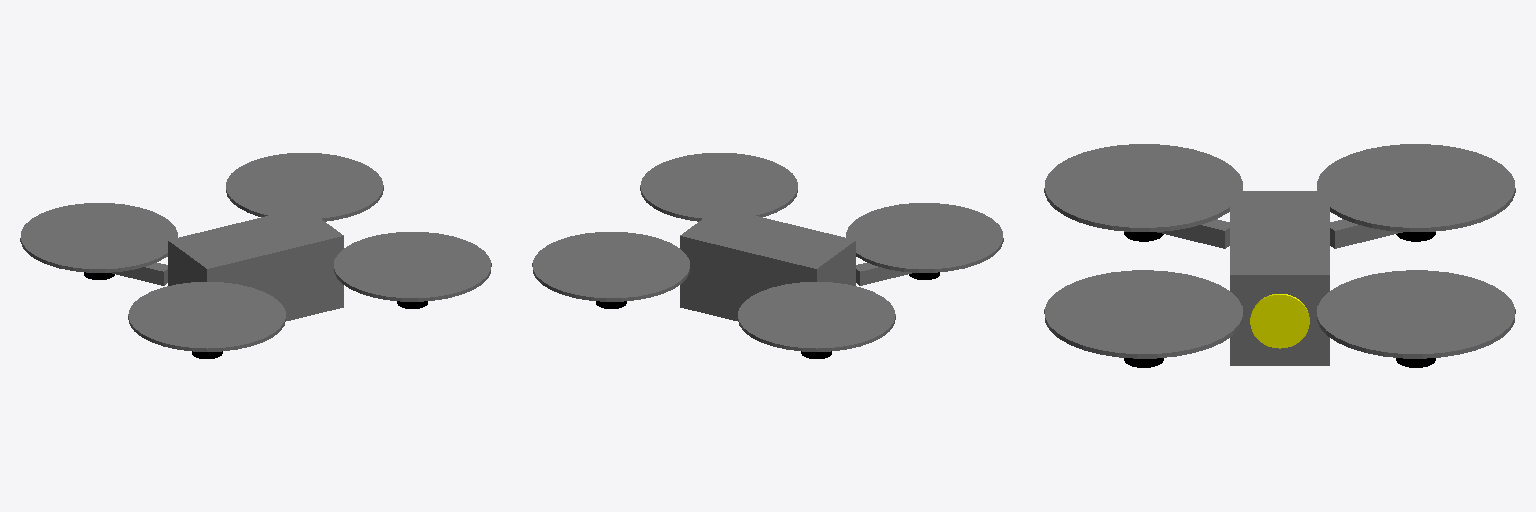
The robot description file, URDF, robot "drone":
<?xml version="1.0"?>
<robot name="drone">
  <!-- MAIN BODY: Box 0.20 x 0.10 x 0.10 m -->
  <link name="main_body">
    <inertial>
      <origin xyz="0 0 0" rpy="0 0 0"/>
      <mass value="1.5"/>
      <!-- Perhitungan kasar inersia untuk box (nilai perkiraan) -->
      <inertia ixx="0.0125" ixy="0" ixz="0" iyy="0.0075" iyz="0" izz="0.0150"/>
    </inertial>
    <visual>
      <origin xyz="0 0 0" rpy="0 0 0"/>
      <geometry>
        <box size="0.20 0.10 0.10"/>
      </geometry>
      <material name="grey">
        <color rgba="0.5 0.5 0.5 1"/>
      </material>
    </visual>
    <collision>
      <origin xyz="0 0 0" rpy="0 0 0"/>
      <geometry>
        <box size="0.20 0.10 0.10"/>
      </geometry>
    </collision>
  </link>

  <!-- HEADLAMP: Objek headlamp sebagai lampu sorot -->
  <link name="headlamp">
    <inertial>
      <!-- Nilai inersia kecil karena headlamp biasanya ringan -->
      <origin xyz="0 0 0" rpy="0 0 0"/>
      <mass value="0.01"/>
      <inertia ixx="0.00001" ixy="0" ixz="0" iyy="0.00001" iyz="0" izz="0.00001"/>
    </inertial>
    <visual>
      <!-- Headlamp dibuat berupa cylinder tipis untuk mensimulasikan lampu sorot -->
      <origin xyz="0 0 0" rpy="0 0 0"/>
      <geometry>
        <cylinder radius="0.03" length="0.005"/>
      </geometry>
      <material name="headlamp_yellow">
        <color rgba="1 1 0 1"/>
      </material>
    </visual>
    <collision>
      <!-- Untuk keperluan deteksi tabrakan, gunakan geometri yang sama -->
      <origin xyz="0 0 0" rpy="0 0 0"/>
      <geometry>
        <cylinder radius="0.03" length="0.005"/>
      </geometry>
    </collision>
  </link>

  <!-- Joint untuk memasang headlamp ke main_body -->
  <joint name="headlamp_joint" type="fixed">
    <!-- Pasangkan headlamp ke main body di posisi yang diinginkan (misal, di depan drone) -->
    <parent link="main_body"/>
    <child link="headlamp"/>
    <!-- Atur origin sehingga headlamp berada 1 cm di atas ujung depan main_body; sesuaikan nilai xyz sesuai layout drone Anda -->
    <origin xyz="0.1 0 0.0" rpy="0 1.578 0"/>
  </joint>

  <!-- ================================================= -->
  <!-- ARMS: Dipasang di empat sudut main body -->
  <!-- Front Right Arm: sambungan di ( +0.10, +0.05, 0 ), rotasi +60° (1.0472 rad) -->
  <link name="arm_fr">
    <inertial>
      <!-- Arm berupa box 0.10 x 0.02 x 0.02, pusat massa di (0.05,0,0) -->
      <origin xyz="0.05 0 0" rpy="0 0 0"/>
      <mass value="0.1"/>
      <inertia ixx="0.00007" ixy="0" ixz="0" iyy="0.00009" iyz="0" izz="0.00009"/>
    </inertial>
    <visual>
      <origin xyz="0.05 0 0" rpy="0 0 0"/>
      <geometry>
        <box size="0.10 0.02 0.02"/>
      </geometry>
      <material name="grey">
        <color rgba="0.5 0.5 0.5 1"/>
      </material>
    </visual>
    <collision>
      <origin xyz="0.05 0 0" rpy="0 0 0"/>
      <geometry>
        <box size="0.10 0.02 0.02"/>
      </geometry>
    </collision>
  </link>
  <joint name="arm_fr_joint" type="fixed">
    <parent link="main_body"/>
    <child link="arm_fr"/>
    <origin xyz="0.10 0.05 0" rpy="0 0 1.0472"/>
  </joint>

  <!-- Front Left Arm: sambungan di ( +0.10, -0.05, 0 ), rotasi -60° (-1.0472 rad) -->
  <link name="arm_fl">
    <inertial>
      <origin xyz="0.05 0 0" rpy="0 0 0"/>
      <mass value="0.1"/>
      <inertia ixx="0.00007" ixy="0" ixz="0" iyy="0.00009" iyz="0" izz="0.00009"/>
    </inertial>
    <visual>
      <origin xyz="0.05 0 0" rpy="0 0 0"/>
      <geometry>
        <box size="0.10 0.02 0.02"/>
      </geometry>
      <material name="grey">
        <color rgba="0.5 0.5 0.5 1"/>
      </material>
    </visual>
    <collision>
      <origin xyz="0.05 0 0" rpy="0 0 0"/>
      <geometry>
        <box size="0.10 0.02 0.02"/>
      </geometry>
    </collision>
  </link>
  <joint name="arm_fl_joint" type="fixed">
    <parent link="main_body"/>
    <child link="arm_fl"/>
    <origin xyz="0.10 -0.05 0" rpy="0 0 -1.0472"/>
  </joint>

  <!-- Rear Right Arm: sambungan di ( -0.10, +0.05, 0 ), rotasi 120° (2.0944 rad) -->
  <link name="arm_rr">
    <inertial>
      <origin xyz="0.05 0 0" rpy="0 0 0"/>
      <mass value="0.1"/>
      <inertia ixx="0.00007" ixy="0" ixz="0" iyy="0.00009" iyz="0" izz="0.00009"/>
    </inertial>
    <visual>
      <origin xyz="0.05 0 0" rpy="0 0 0"/>
      <geometry>
        <box size="0.10 0.02 0.02"/>
      </geometry>
      <material name="grey">
        <color rgba="0.5 0.5 0.5 1"/>
      </material>
    </visual>
    <collision>
      <origin xyz="0.05 0 0" rpy="0 0 0"/>
      <geometry>
        <box size="0.10 0.02 0.02"/>
      </geometry>
    </collision>
  </link>
  <joint name="arm_rr_joint" type="fixed">
    <parent link="main_body"/>
    <child link="arm_rr"/>
    <origin xyz="-0.10 0.05 0" rpy="0 0 2.0944"/>
  </joint>

  <!-- Rear Left Arm: sambungan di ( -0.10, -0.05, 0 ), rotasi -120° (-2.0944 rad) -->
  <link name="arm_rl">
    <inertial>
      <origin xyz="0.05 0 0" rpy="0 0 0"/>
      <mass value="0.1"/>
      <inertia ixx="0.00007" ixy="0" ixz="0" iyy="0.00009" iyz="0" izz="0.00009"/>
    </inertial>
    <visual>
      <origin xyz="0.05 0 0" rpy="0 0 0"/>
      <geometry>
        <box size="0.10 0.02 0.02"/>
      </geometry>
      <material name="grey">
        <color rgba="0.5 0.5 0.5 1"/>
      </material>
    </visual>
    <collision>
      <origin xyz="0.05 0 0" rpy="0 0 0"/>
      <geometry>
        <box size="0.10 0.02 0.02"/>
      </geometry>
    </collision>
  </link>
  <joint name="arm_rl_joint" type="fixed">
    <parent link="main_body"/>
    <child link="arm_rl"/>
    <origin xyz="-0.10 -0.05 0" rpy="0 0 -2.0944"/>
  </joint>

  <!-- ================================================= -->
  <!-- MOTOR dan PROPELER -->
  <!-- Setiap motor terpasang di ujung arm, pada titik (0.10, 0, 0) di frame arm.
       Motor berupa silinder dengan diameter 4 cm (radius 0.02) dan panjang 0.04 m.
       Karena URDF secara default mengorientasikan silinder sepanjang sumbu Z, 
       motor akan memiliki sumbu Z vertikal sehingga top motor berada di z = +0.02.
       Propeller dipasang 1 cm di atas ujung atas motor (di motor frame: z = 0.02 + 0.01 = 0.03).
       Propeller berbentuk silinder dengan diameter 20 cm (radius 0.10) dan ketebalan 0.005 m.
  -->

  <!-- Motor Front Right -->
  <link name="motor_fr">
    <inertial>
      <origin xyz="0 0 0" rpy="0 0 0"/>
      <mass value="0.05"/>
      <inertia ixx="0.0001" ixy="0" ixz="0" iyy="0.0001" iyz="0" izz="0.0005"/>
    </inertial>
    <visual>
      <!-- Motor berwarna hitam -->
      <origin xyz="0 0 0" rpy="0 0 0"/>
      <geometry>
        <cylinder radius="0.02" length="0.04"/>
      </geometry>
      <material name="black">
        <color rgba="0 0 0 1"/>
      </material>
    </visual>
    <collision>
      <origin xyz="0 0 0" rpy="0 0 0"/>
      <geometry>
        <cylinder radius="0.02" length="0.04"/>
      </geometry>
    </collision>
  </link>
  <joint name="motor_fr_joint" type="fixed">
    <parent link="arm_fr"/>
    <child link="motor_fr"/>
    <origin xyz="0.10 0 0" rpy="0 0 0"/>
  </joint>
  <link name="propeller_fr">
    <visual>
      <!-- Propeller dipasang 1 cm di atas top motor: origin pada (0, 0, 0.03) relatif motor -->
      <origin xyz="0 0 0.03" rpy="0 0 0"/>
      <geometry>
        <cylinder radius="0.10" length="0.005"/>
      </geometry>
      <material name="grey">
        <color rgba="0.5 0.5 0.5 1"/>
      </material>
    </visual>
  </link>
  <joint name="propeller_fr_joint" type="fixed">
    <parent link="motor_fr"/>
    <child link="propeller_fr"/>
    <origin xyz="0 0 0" rpy="0 0 0"/>
  </joint>

  <!-- Motor Front Left -->
  <link name="motor_fl">
    <inertial>
      <origin xyz="0 0 0" rpy="0 0 0"/>
      <mass value="0.05"/>
      <inertia ixx="0.0001" ixy="0" ixz="0" iyy="0.0001" iyz="0" izz="0.0005"/>
    </inertial>
    <visual>
      <origin xyz="0 0 0" rpy="0 0 0"/>
      <geometry>
        <cylinder radius="0.02" length="0.04"/>
      </geometry>
      <material name="black">
        <color rgba="0 0 0 1"/>
      </material>
    </visual>
    <collision>
      <origin xyz="0 0 0" rpy="0 0 0"/>
      <geometry>
        <cylinder radius="0.02" length="0.04"/>
      </geometry>
    </collision>
  </link>
  <joint name="motor_fl_joint" type="fixed">
    <parent link="arm_fl"/>
    <child link="motor_fl"/>
    <origin xyz="0.10 0 0" rpy="0 0 0"/>
  </joint>
  <link name="propeller_fl">
    <visual>
      <origin xyz="0 0 0.03" rpy="0 0 0"/>
      <geometry>
        <cylinder radius="0.10" length="0.005"/>
      </geometry>
      <material name="grey">
        <color rgba="0.5 0.5 0.5 1"/>
      </material>
    </visual>
  </link>
  <joint name="propeller_fl_joint" type="fixed">
    <parent link="motor_fl"/>
    <child link="propeller_fl"/>
    <origin xyz="0 0 0" rpy="0 0 0"/>
  </joint>

  <!-- Motor Rear Right -->
  <link name="motor_rr">
    <inertial>
      <origin xyz="0 0 0" rpy="0 0 0"/>
      <mass value="0.05"/>
      <inertia ixx="0.0001" ixy="0" ixz="0" iyy="0.0001" iyz="0" izz="0.0005"/>
    </inertial>
    <visual>
      <origin xyz="0 0 0" rpy="0 0 0"/>
      <geometry>
        <cylinder radius="0.02" length="0.04"/>
      </geometry>
      <material name="black">
        <color rgba="0 0 0 1"/>
      </material>
    </visual>
    <collision>
      <origin xyz="0 0 0" rpy="0 0 0"/>
      <geometry>
        <cylinder radius="0.02" length="0.04"/>
      </geometry>
    </collision>
  </link>
  <joint name="motor_rr_joint" type="fixed">
    <parent link="arm_rr"/>
    <child link="motor_rr"/>
    <origin xyz="0.10 0 0" rpy="0 0 0"/>
  </joint>
  <link name="propeller_rr">
    <visual>
      <origin xyz="0 0 0.03" rpy="0 0 0"/>
      <geometry>
        <cylinder radius="0.10" length="0.005"/>
      </geometry>
      <material name="grey">
        <color rgba="0.5 0.5 0.5 1"/>
      </material>
    </visual>
  </link>
  <joint name="propeller_rr_joint" type="fixed">
    <parent link="motor_rr"/>
    <child link="propeller_rr"/>
    <origin xyz="0 0 0" rpy="0 0 0"/>
  </joint>

  <!-- Motor Rear Left -->
  <link name="motor_rl">
    <inertial>
      <origin xyz="0 0 0" rpy="0 0 0"/>
      <mass value="0.05"/>
      <inertia ixx="0.0001" ixy="0" ixz="0" iyy="0.0001" iyz="0" izz="0.0005"/>
    </inertial>
    <visual>
      <origin xyz="0 0 0" rpy="0 0 0"/>
      <geometry>
        <cylinder radius="0.02" length="0.04"/>
      </geometry>
      <material name="black">
        <color rgba="0 0 0 1"/>
      </material>
    </visual>
    <collision>
      <origin xyz="0 0 0" rpy="0 0 0"/>
      <geometry>
        <cylinder radius="0.02" length="0.04"/>
      </geometry>
    </collision>
  </link>
  <joint name="motor_rl_joint" type="fixed">
    <parent link="arm_rl"/>
    <child link="motor_rl"/>
    <origin xyz="0.10 0 0" rpy="0 0 0"/>
  </joint>
  <link name="propeller_rl">
    <visual>
      <origin xyz="0 0 0.03" rpy="0 0 0"/>
      <geometry>
        <cylinder radius="0.10" length="0.005"/>
      </geometry>
      <material name="grey">
        <color rgba="0.5 0.5 0.5 1"/>
      </material>
    </visual>
  </link>
  <joint name="propeller_rl_joint" type="fixed">
    <parent link="motor_rl"/>
    <child link="propeller_rl"/>
    <origin xyz="0 0 0" rpy="0 0 0"/>
  </joint>

</robot>

--- What the picture shows (computed from the rendered views, not written in the file) ---
Views: 3 orthographic renders of the robot side by side, from view 1: azimuth 30°, elevation 25°; view 2: azimuth 150°, elevation 25°; view 3: azimuth 270°, elevation 25°.
Robot: drone — 14 links, 13 joints (13 fixed); root link main_body; default pose: all joints at 0.
Visible links, largest first — view 1: main_body, propeller_rl, propeller_fl, propeller_rr, propeller_fr, arm_rr; view 2: main_body, propeller_rr, propeller_fr, propeller_rl, propeller_fl, arm_rl; view 3: main_body, propeller_fr, propeller_fl, propeller_rr, propeller_rl, headlamp, arm_rr, arm_rl.
Link boxes in pixels (x1,y1,x2,y2): main_body: [168, 207, 343, 320]; propeller_rl: [128, 282, 285, 351]; propeller_fl: [334, 232, 491, 301]; propeller_rr: [20, 203, 177, 272]; propeller_fr: [226, 153, 383, 221]; arm_rr: [112, 263, 167, 285]; main_body: [680, 207, 855, 320]; propeller_rr: [738, 282, 895, 351]; propeller_fr: [532, 232, 689, 301]; propeller_rl: [846, 203, 1003, 272]; propeller_fl: [640, 153, 797, 221]; arm_rl: [856, 263, 911, 285]; main_body: [1230, 191, 1329, 365]; propeller_fr: [1317, 270, 1515, 358]; propeller_fl: [1044, 270, 1242, 358]; propeller_rr: [1317, 144, 1515, 231]; propeller_rl: [1044, 144, 1242, 231]; headlamp: [1250, 294, 1309, 348]; arm_rr: [1330, 219, 1402, 248]; arm_rl: [1157, 219, 1229, 248].
Bounding box of the posed robot: 0.4996 × 0.4728 × 0.1 m (x, y, z).
Geometry: primitives only (box / cylinder / sphere), no mesh files.